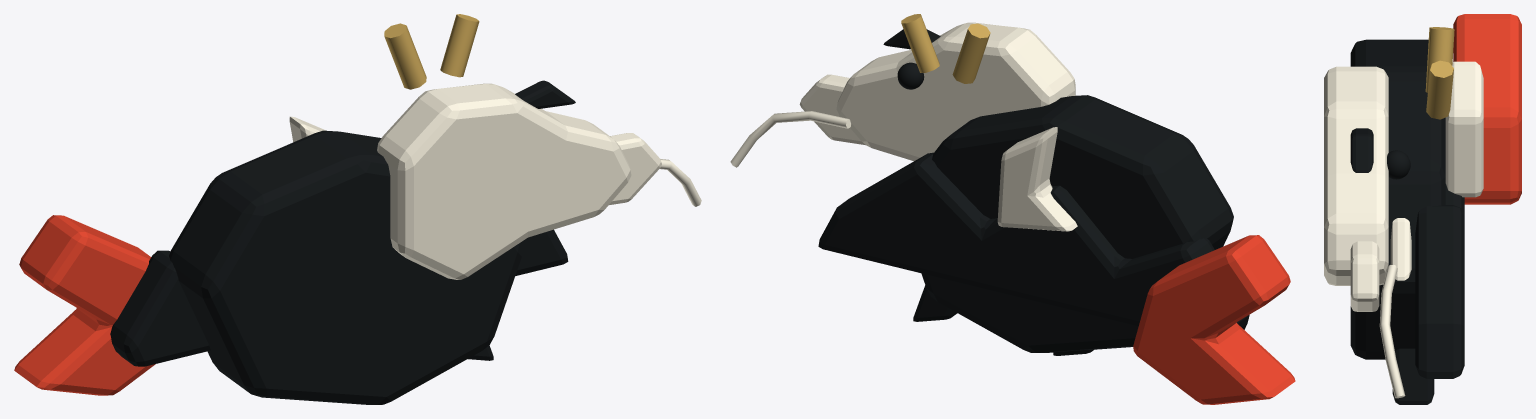
3 renders of one model, left to right at view 1: azimuth 30°, elevation 25°; view 2: azimuth 150°, elevation 25°; view 3: azimuth 270°, elevation 25°, orthographic. The views are drawn at different scales.
Parts seen in each view (by area): view 1: 256 stout ink torso, 256 huge dragon head, 256 broad brush tail, 256 ink wave, 256 long dragon muzzle, 256 short horn A, 256 short horn B, 256 brow, 256 whisker; view 2: 256 stout ink torso, 256 ink wave, 256 broad brush tail, 256 huge dragon head, 256 cheek mane, 256 long dragon muzzle, 256 short horn A, 256 whisker, 256 short horn B, 256 thick claw 0.16, bold ink eye; view 3: 256 stout ink torso, 256 huge dragon head, 256 broad brush tail, 256 ink wave, 256 cheek mane, 256 long dragon muzzle, 256 whisker, 256 thick claw 0.16, 256 short horn B, 256 paper foam, 256 short horn A, 256 brow (+1 smaller).
Boxes of the visible parts, bbox=[...] form: 256 stout ink torso: bbox=[169, 130, 523, 404]; 256 huge dragon head: bbox=[377, 83, 631, 279]; 256 broad brush tail: bbox=[14, 215, 155, 395]; 256 ink wave: bbox=[110, 229, 568, 366]; 256 long dragon muzzle: bbox=[609, 133, 661, 204]; 256 short horn A: bbox=[384, 23, 426, 89]; 256 short horn B: bbox=[440, 14, 479, 77]; 256 brow: bbox=[515, 80, 575, 108]; 256 whisker: bbox=[660, 159, 701, 206]; 256 stout ink torso: bbox=[921, 95, 1233, 352]; 256 ink wave: bbox=[818, 152, 1249, 329]; 256 broad brush tail: bbox=[1133, 235, 1295, 404]; 256 huge dragon head: bbox=[836, 22, 1075, 160]; 256 cheek mane: bbox=[997, 127, 1077, 231]; 256 long dragon muzzle: bbox=[799, 74, 865, 145]; 256 short horn A: bbox=[952, 23, 990, 83]; 256 whisker: bbox=[730, 111, 850, 167]; 256 short horn B: bbox=[901, 14, 939, 72]; 256 thick claw 0.16: bbox=[913, 285, 957, 321]; bold ink eye: bbox=[897, 62, 924, 89]; 256 stout ink torso: bbox=[1350, 39, 1445, 359]; 256 huge dragon head: bbox=[1324, 66, 1388, 285]; 256 broad brush tail: bbox=[1453, 14, 1521, 204]; 256 ink wave: bbox=[1415, 184, 1464, 378]; 256 cheek mane: bbox=[1445, 61, 1483, 197]; 256 long dragon muzzle: bbox=[1350, 241, 1379, 311]; 256 whisker: bbox=[1379, 265, 1405, 398]; 256 thick claw 0.16: bbox=[1392, 348, 1434, 404]; 256 short horn B: bbox=[1426, 60, 1453, 119]; 256 paper foam: bbox=[1390, 218, 1411, 280]; 256 short horn A: bbox=[1425, 27, 1454, 92]; 256 brow: bbox=[1350, 128, 1373, 172].
Bounding box in the file's own units: 1.95 × 0.9929 × 0.52.
